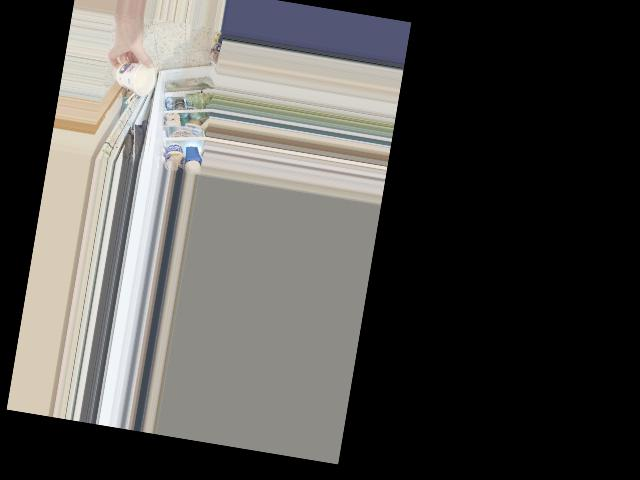cotage: (114, 57, 161, 97)
